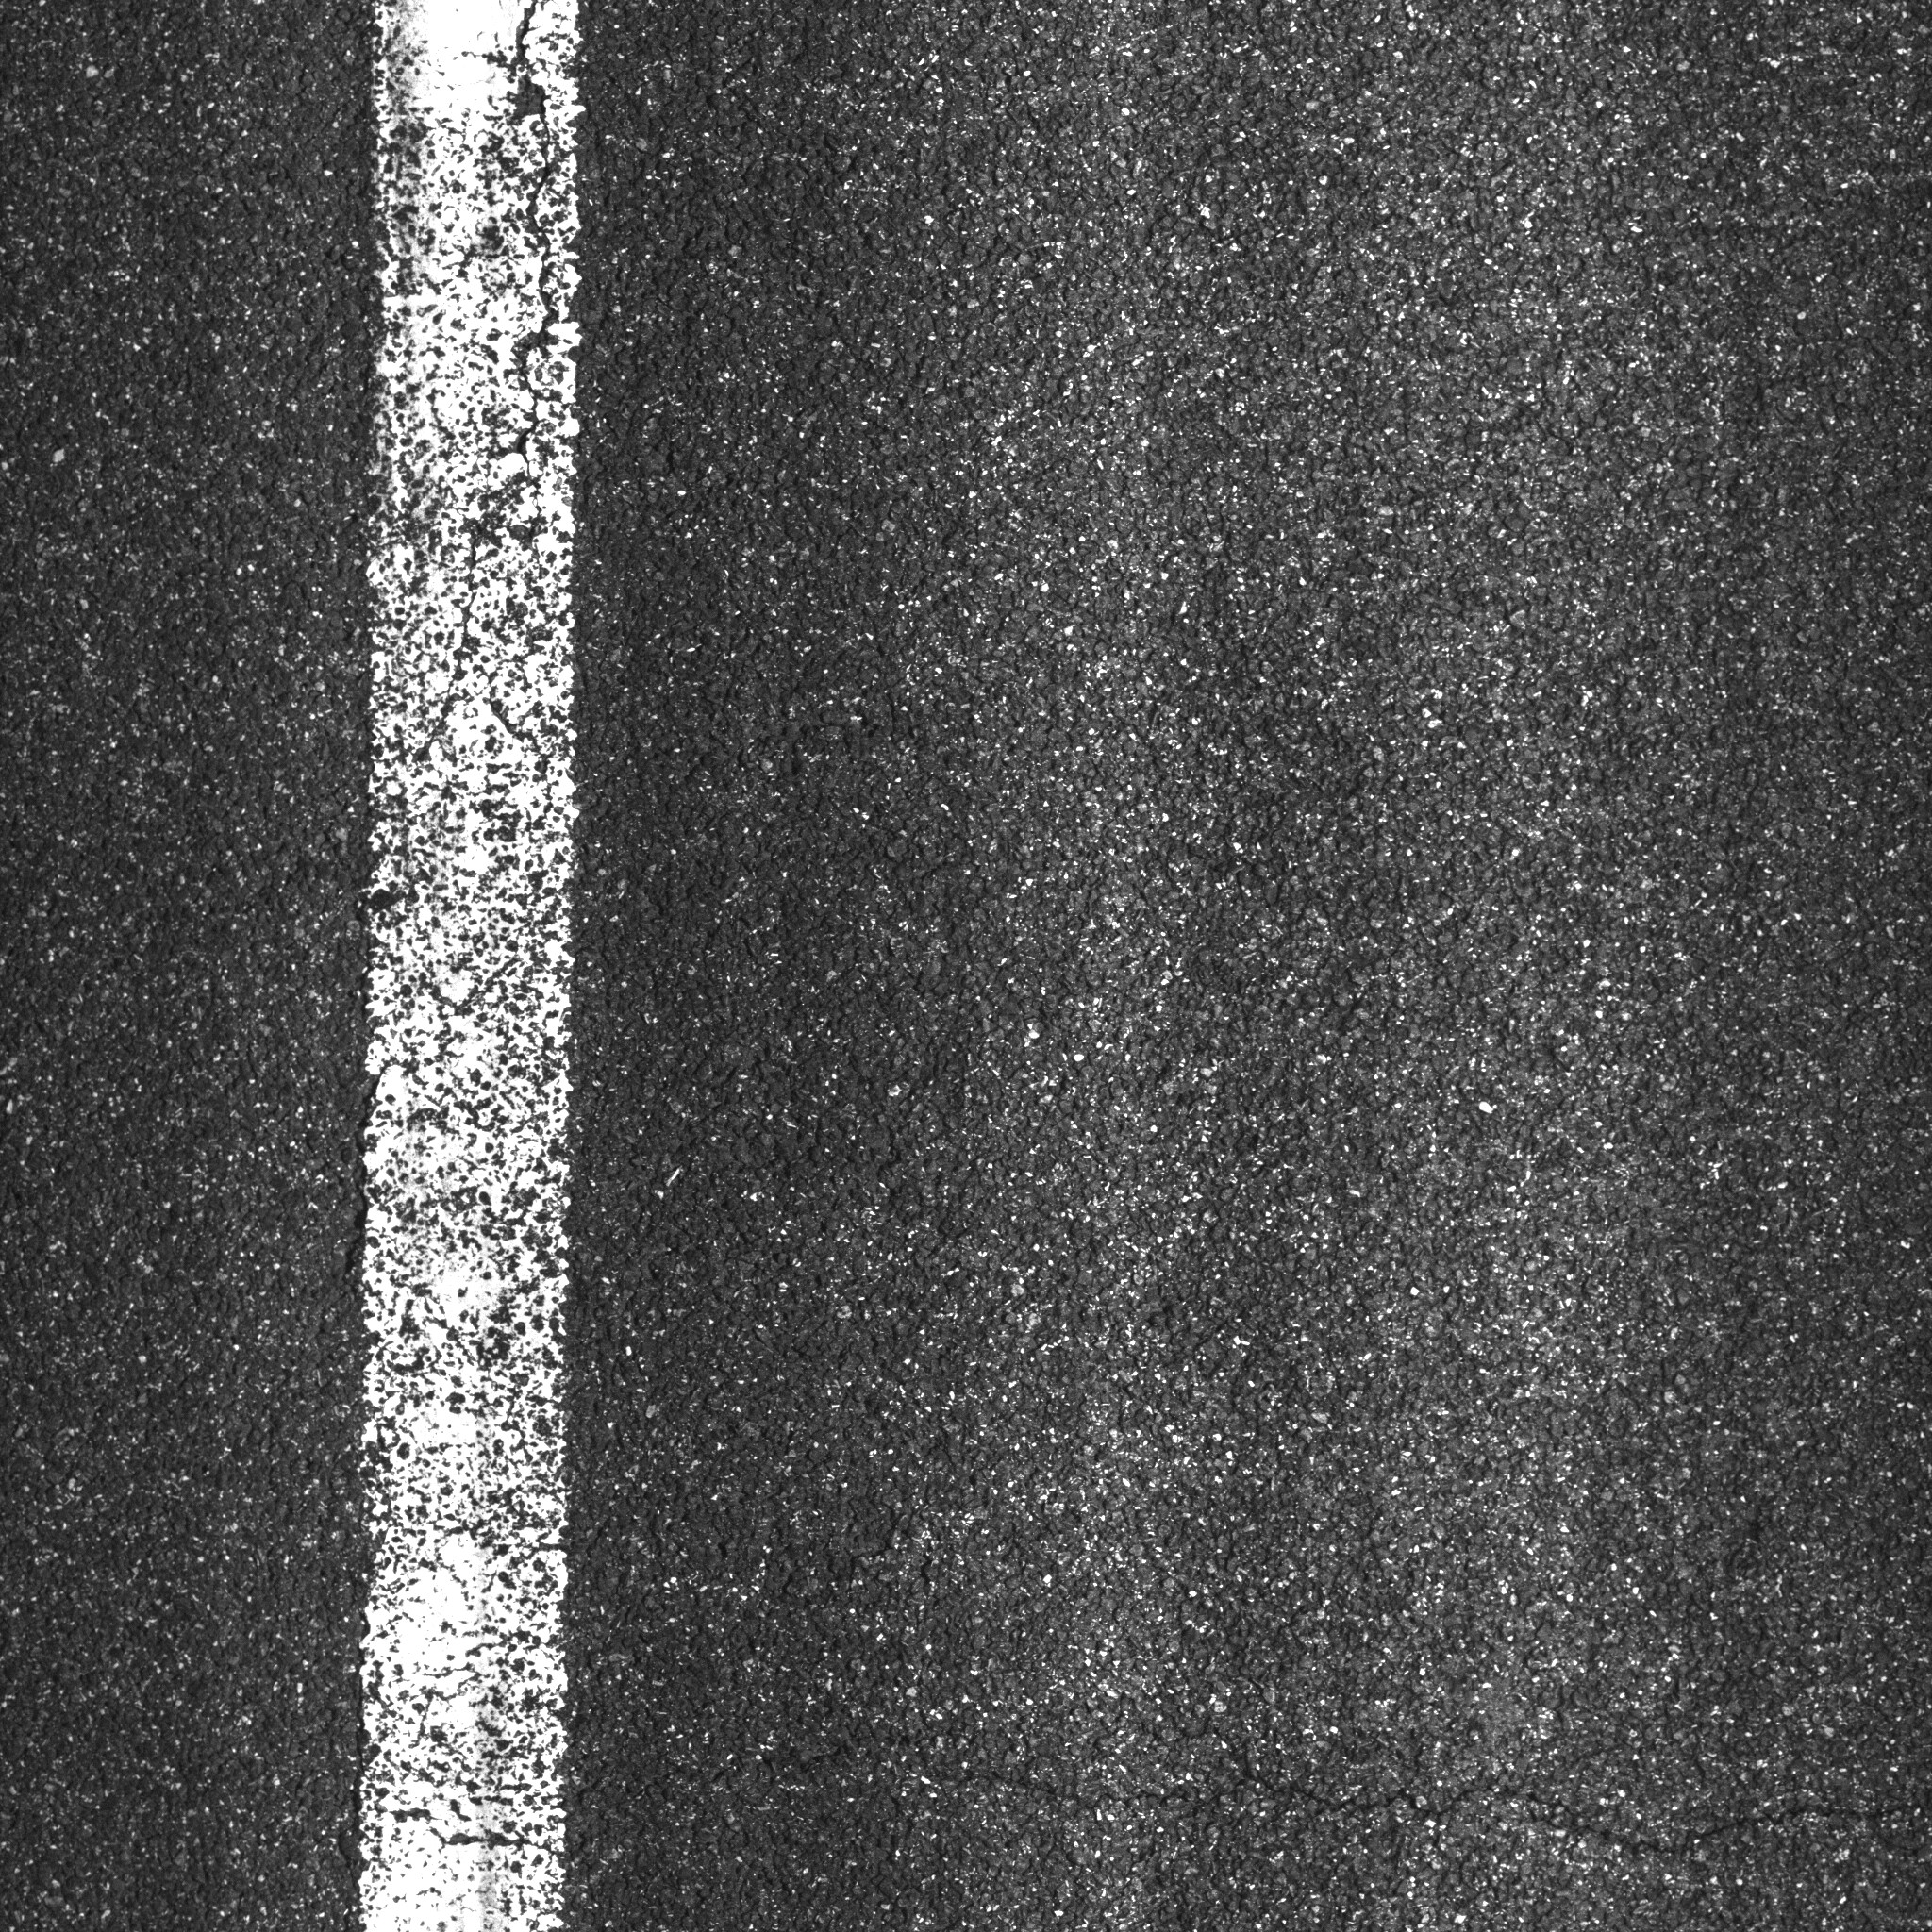transeverse: (619, 1721, 1916, 1898)
